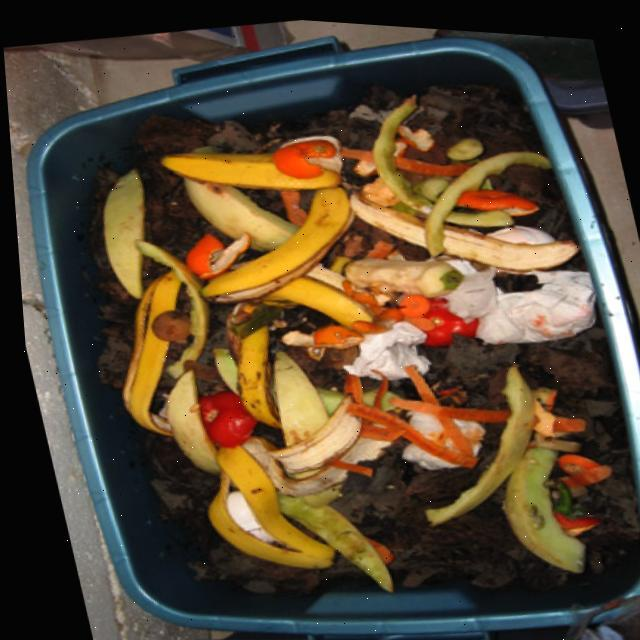Garbage: (80, 77, 633, 592)
Thermocol: (440, 259, 492, 315)
